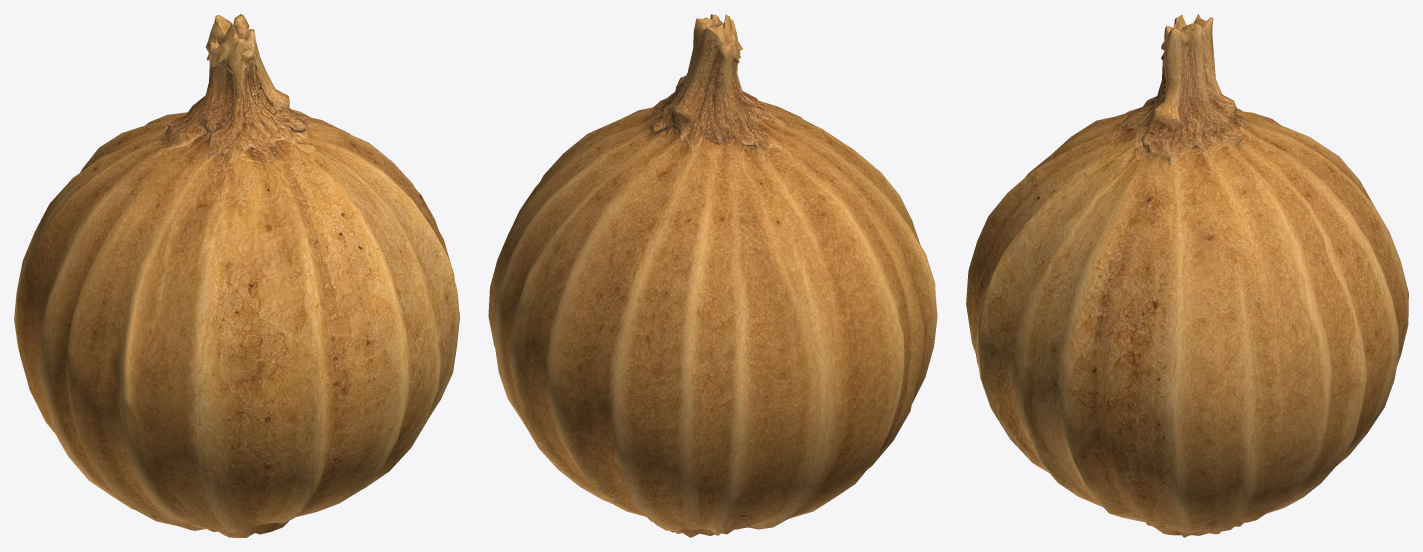
The model's file is s_cilantro.glb.
3 views of the same model, side by side, from view 1: azimuth 30°, elevation 25°; view 2: azimuth 150°, elevation 25°; view 3: azimuth 270°, elevation 25° (orthographic).
Parts seen in each view (by area): view 1: Meshy_AI_coriander_seed_lowpoly_20261026_texture; view 2: Meshy_AI_coriander_seed_lowpoly_20261026_texture; view 3: Meshy_AI_coriander_seed_lowpoly_20261026_texture.
Boxes of the visible parts, x1=… form: Meshy_AI_coriander_seed_lowpoly_20261026_texture: x1=14, y1=14, x2=459, y2=537; Meshy_AI_coriander_seed_lowpoly_20261026_texture: x1=488, y1=14, x2=937, y2=537; Meshy_AI_coriander_seed_lowpoly_20261026_texture: x1=966, y1=14, x2=1408, y2=537.
Size of the model in its own units: 0.7695 by 0.9502 by 0.7539.
Materials: 1 (1 with a texture image).
